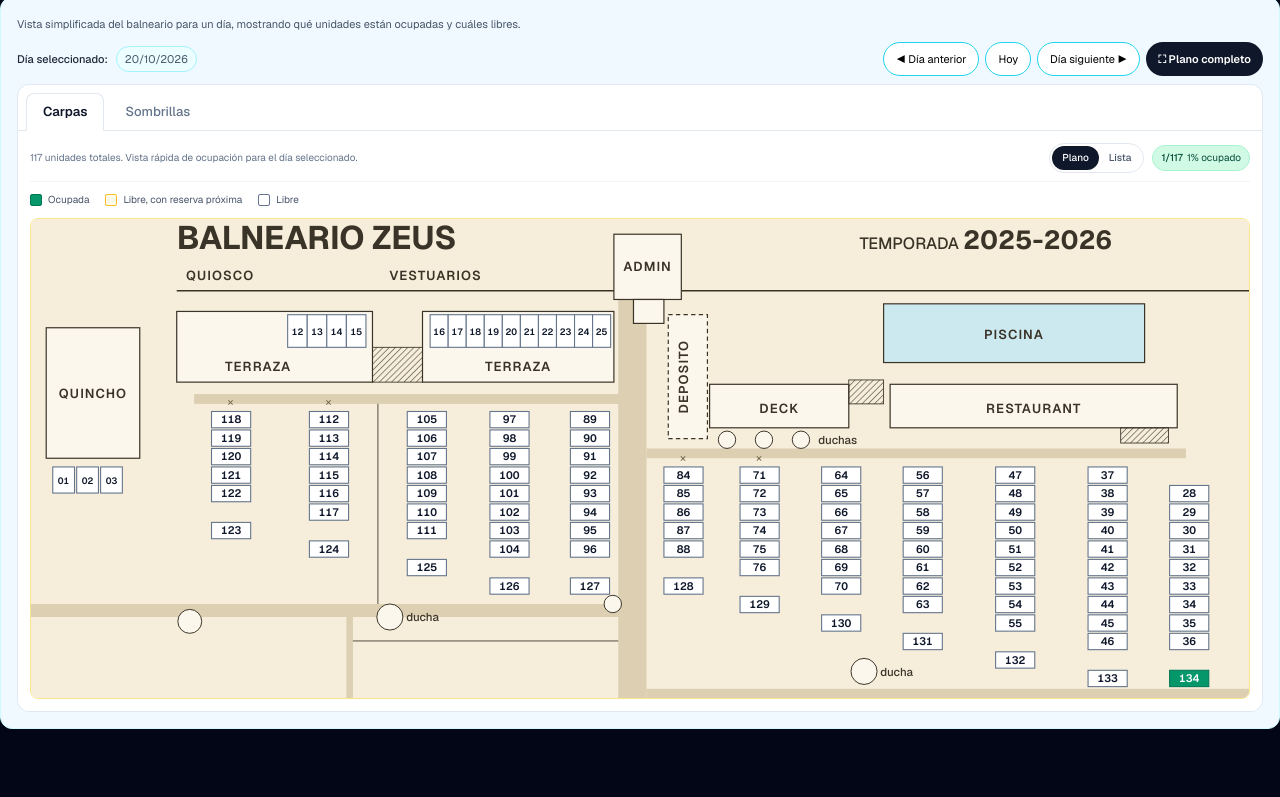
Scenario: tarjeta al pasar el mouse › tambien sale en la lista
Click the button "Lista". click: click(1120, 158)
box: x1=1099 y1=146 x2=1141 y2=170
(page scrolled)
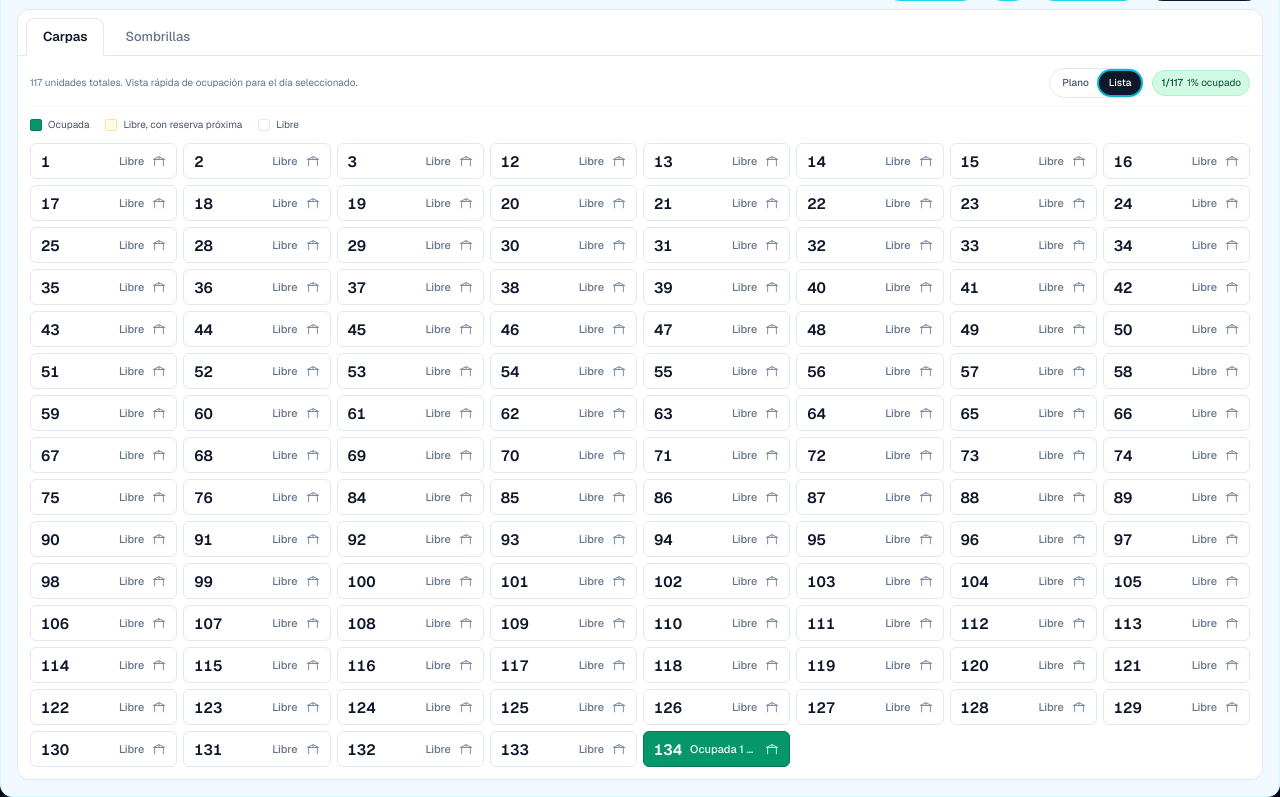
Hover over the button with aria-label "Carpa 134 - Ocupada" at (717, 749), box x1=643 y1=731 x2=790 y2=767
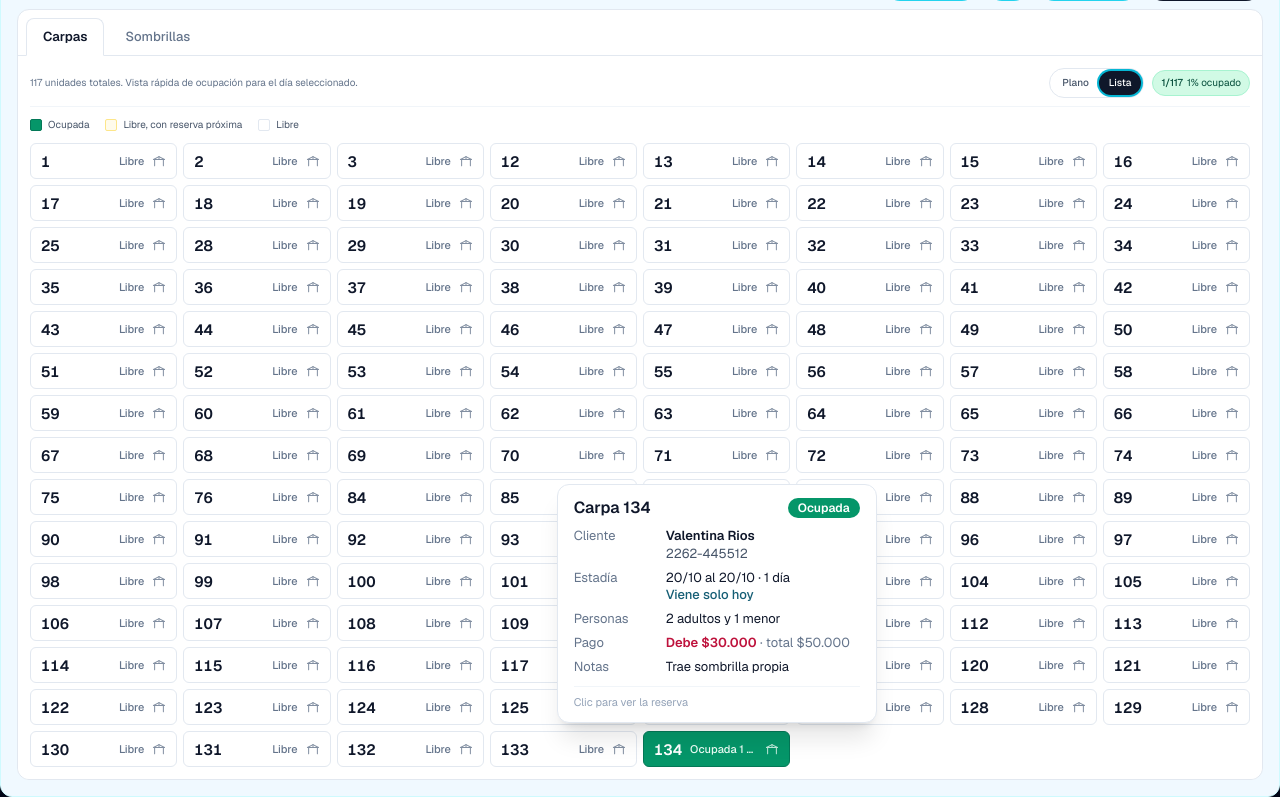
Check: the tooltip shows "Valentina Rios", box x1=666 y1=527 x2=755 y2=544
